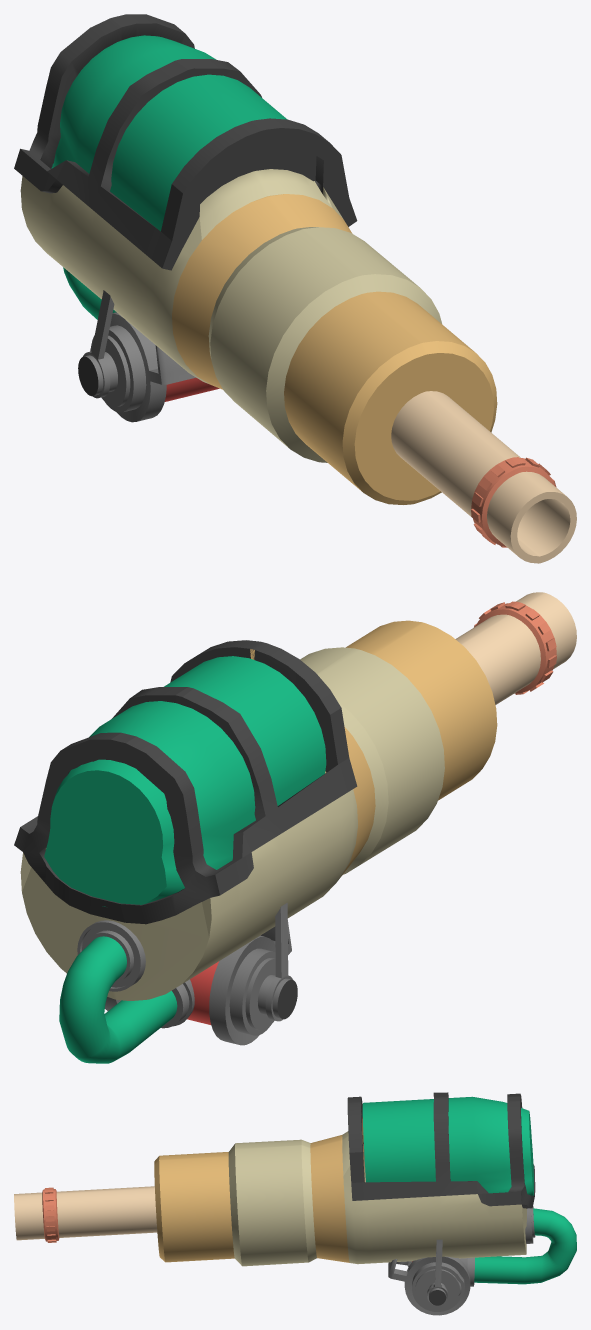
Rendered from CanonTest.fbx.
3 renders of one model, top to bottom at view 1: azimuth 30°, elevation 25°; view 2: azimuth 150°, elevation 25°; view 3: azimuth 270°, elevation 25°, orthographic. The views are drawn at different scales.
Visible parts, largest first — view 1: Canon; view 2: Canon; view 3: Canon.
Part boxes in pixels (x1=…): Canon: x1=14, y1=14, x2=576, y2=563; Canon: x1=14, y1=592, x2=576, y2=1063; Canon: x1=14, y1=1092, x2=576, y2=1315.
Size of the model in its own units: 3.27 by 12.98 by 5.07.
